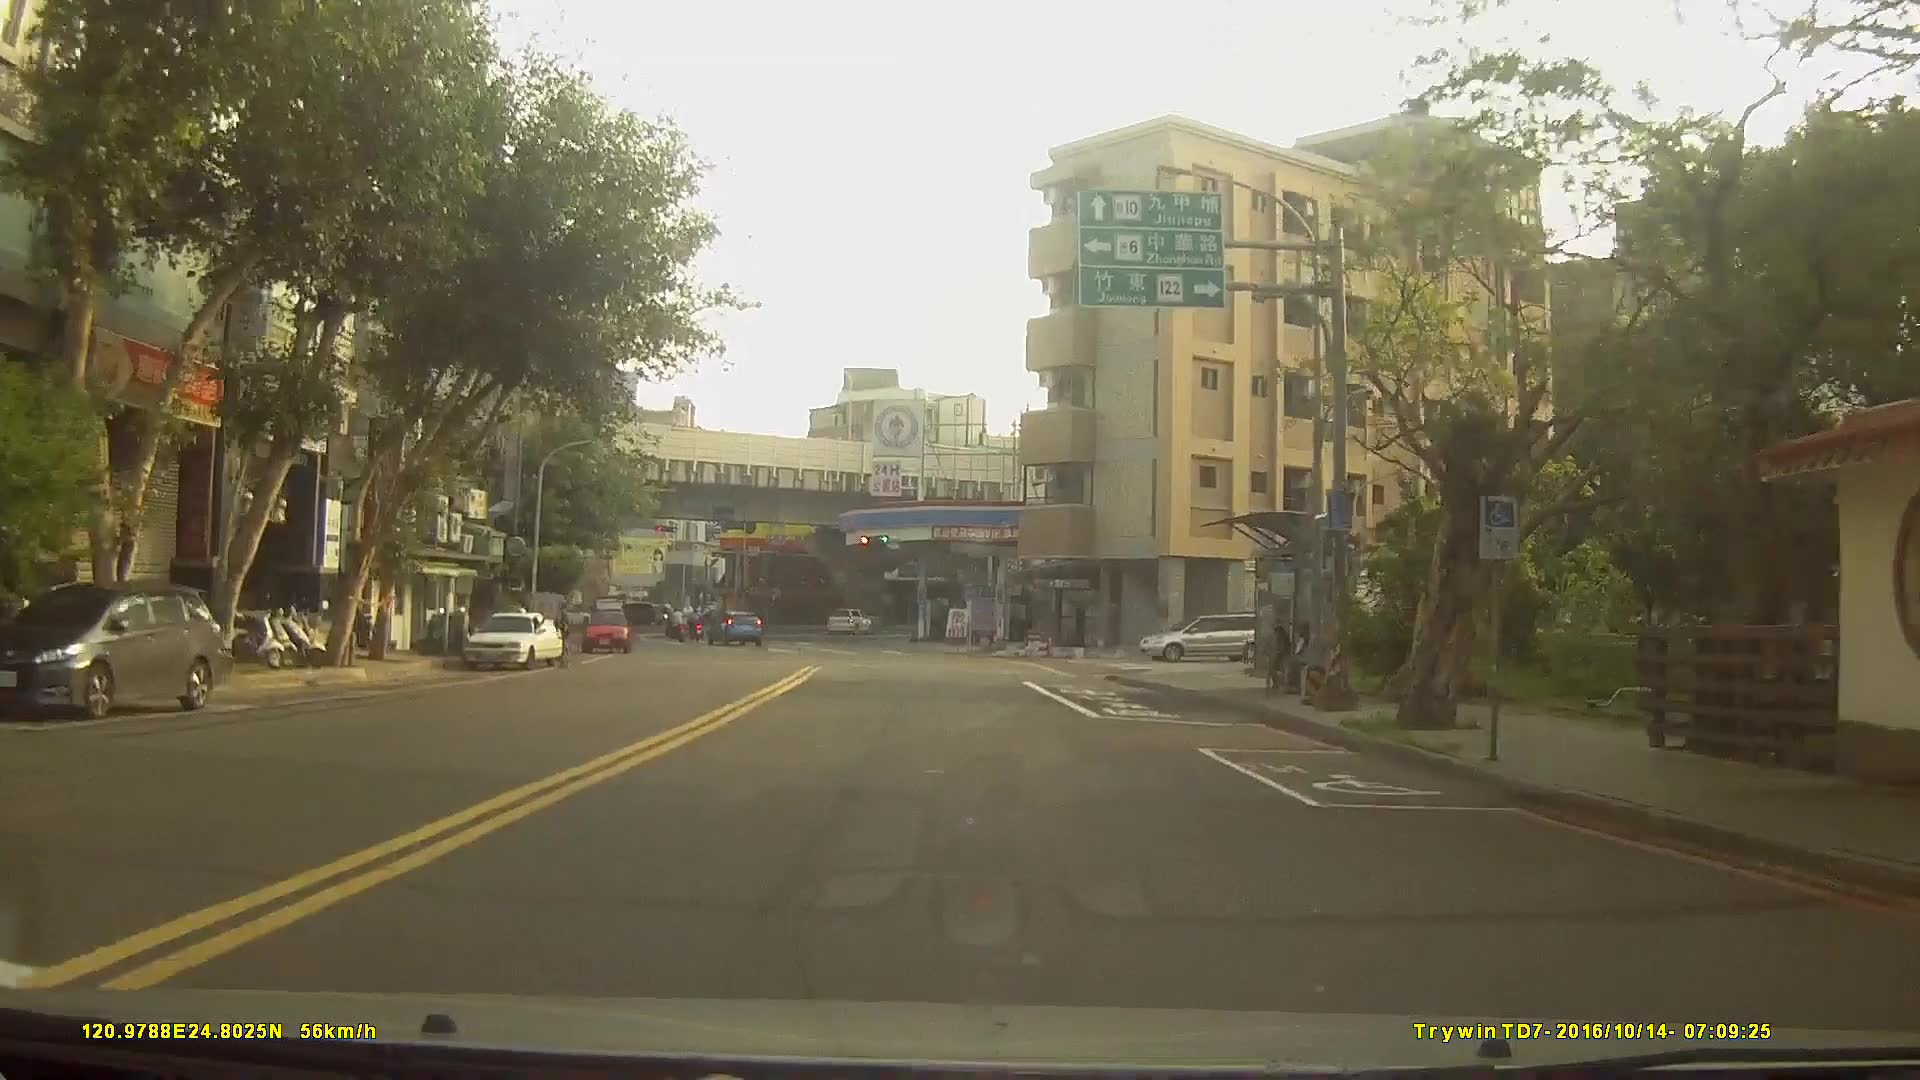pedestrian: (1293, 618, 1319, 706)
rider: (665, 605, 687, 644)
vehicle: (0, 577, 227, 720), (1137, 610, 1270, 661), (463, 609, 565, 669), (581, 604, 629, 652), (705, 607, 762, 646), (826, 606, 870, 634)
